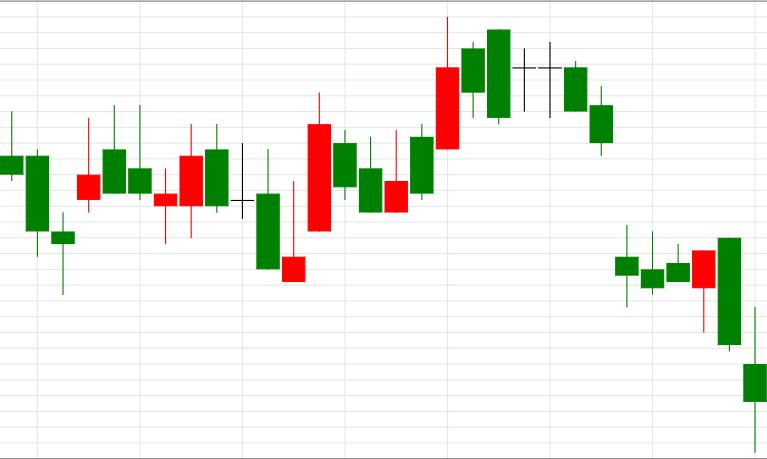hammer_rise: (564, 61, 716, 334)
inverse_hammer_rise: (205, 123, 306, 282)
